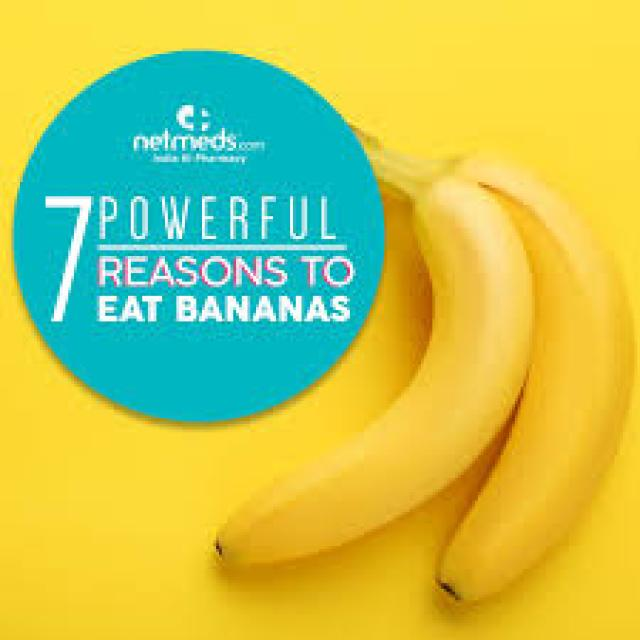Banana: (218, 176, 534, 564), (436, 160, 632, 604)
